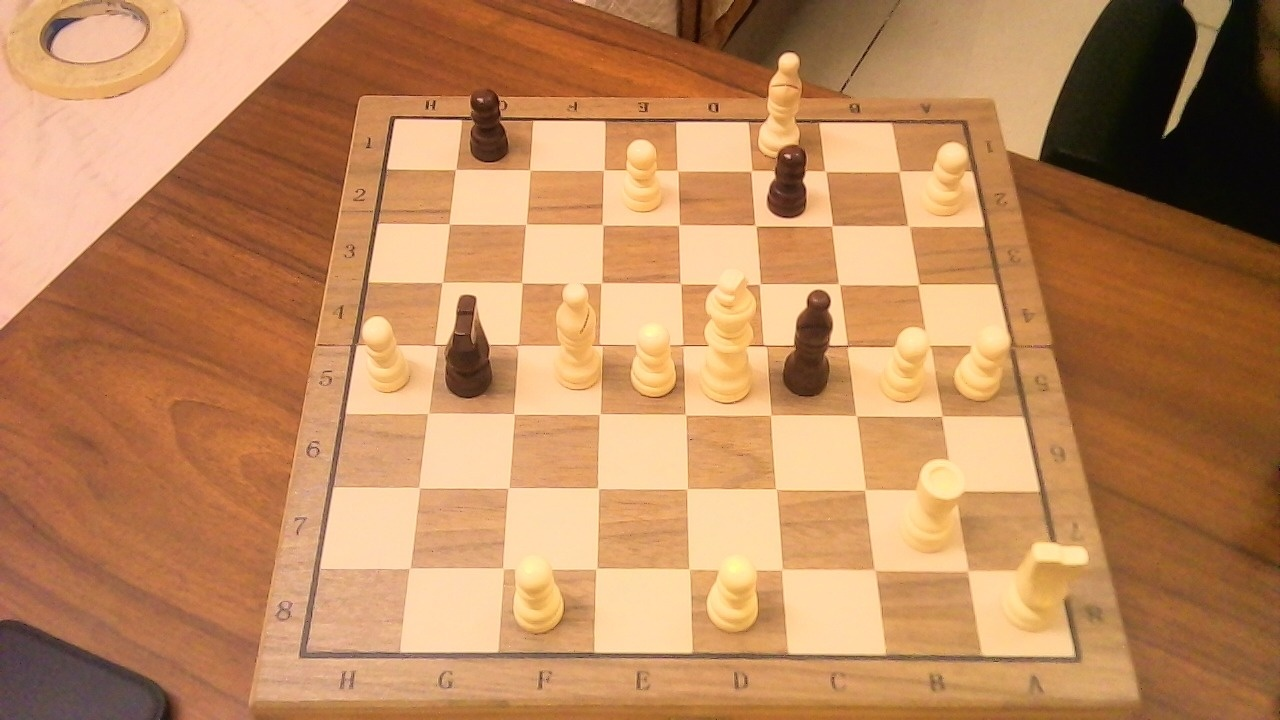B: (543, 271, 605, 396), (754, 41, 813, 162)
K: (692, 256, 766, 408)
N: (994, 529, 1096, 637)
P: (504, 543, 572, 638), (699, 544, 767, 636), (948, 316, 1018, 404), (872, 317, 937, 407), (353, 307, 417, 398), (617, 312, 681, 402), (915, 133, 977, 219), (611, 130, 669, 217)
R: (892, 448, 973, 560)
b: (777, 276, 850, 401)
n: (436, 281, 506, 401)
p: (759, 134, 820, 222), (463, 79, 518, 165)
